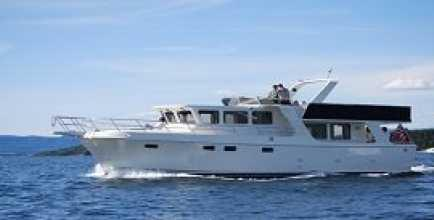yacht: (80, 72, 421, 175)
